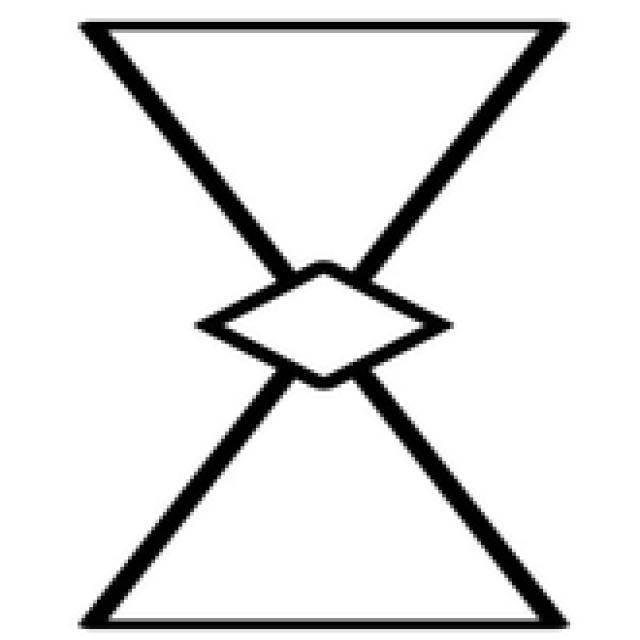Plug Valve: (88, 18, 569, 628)
